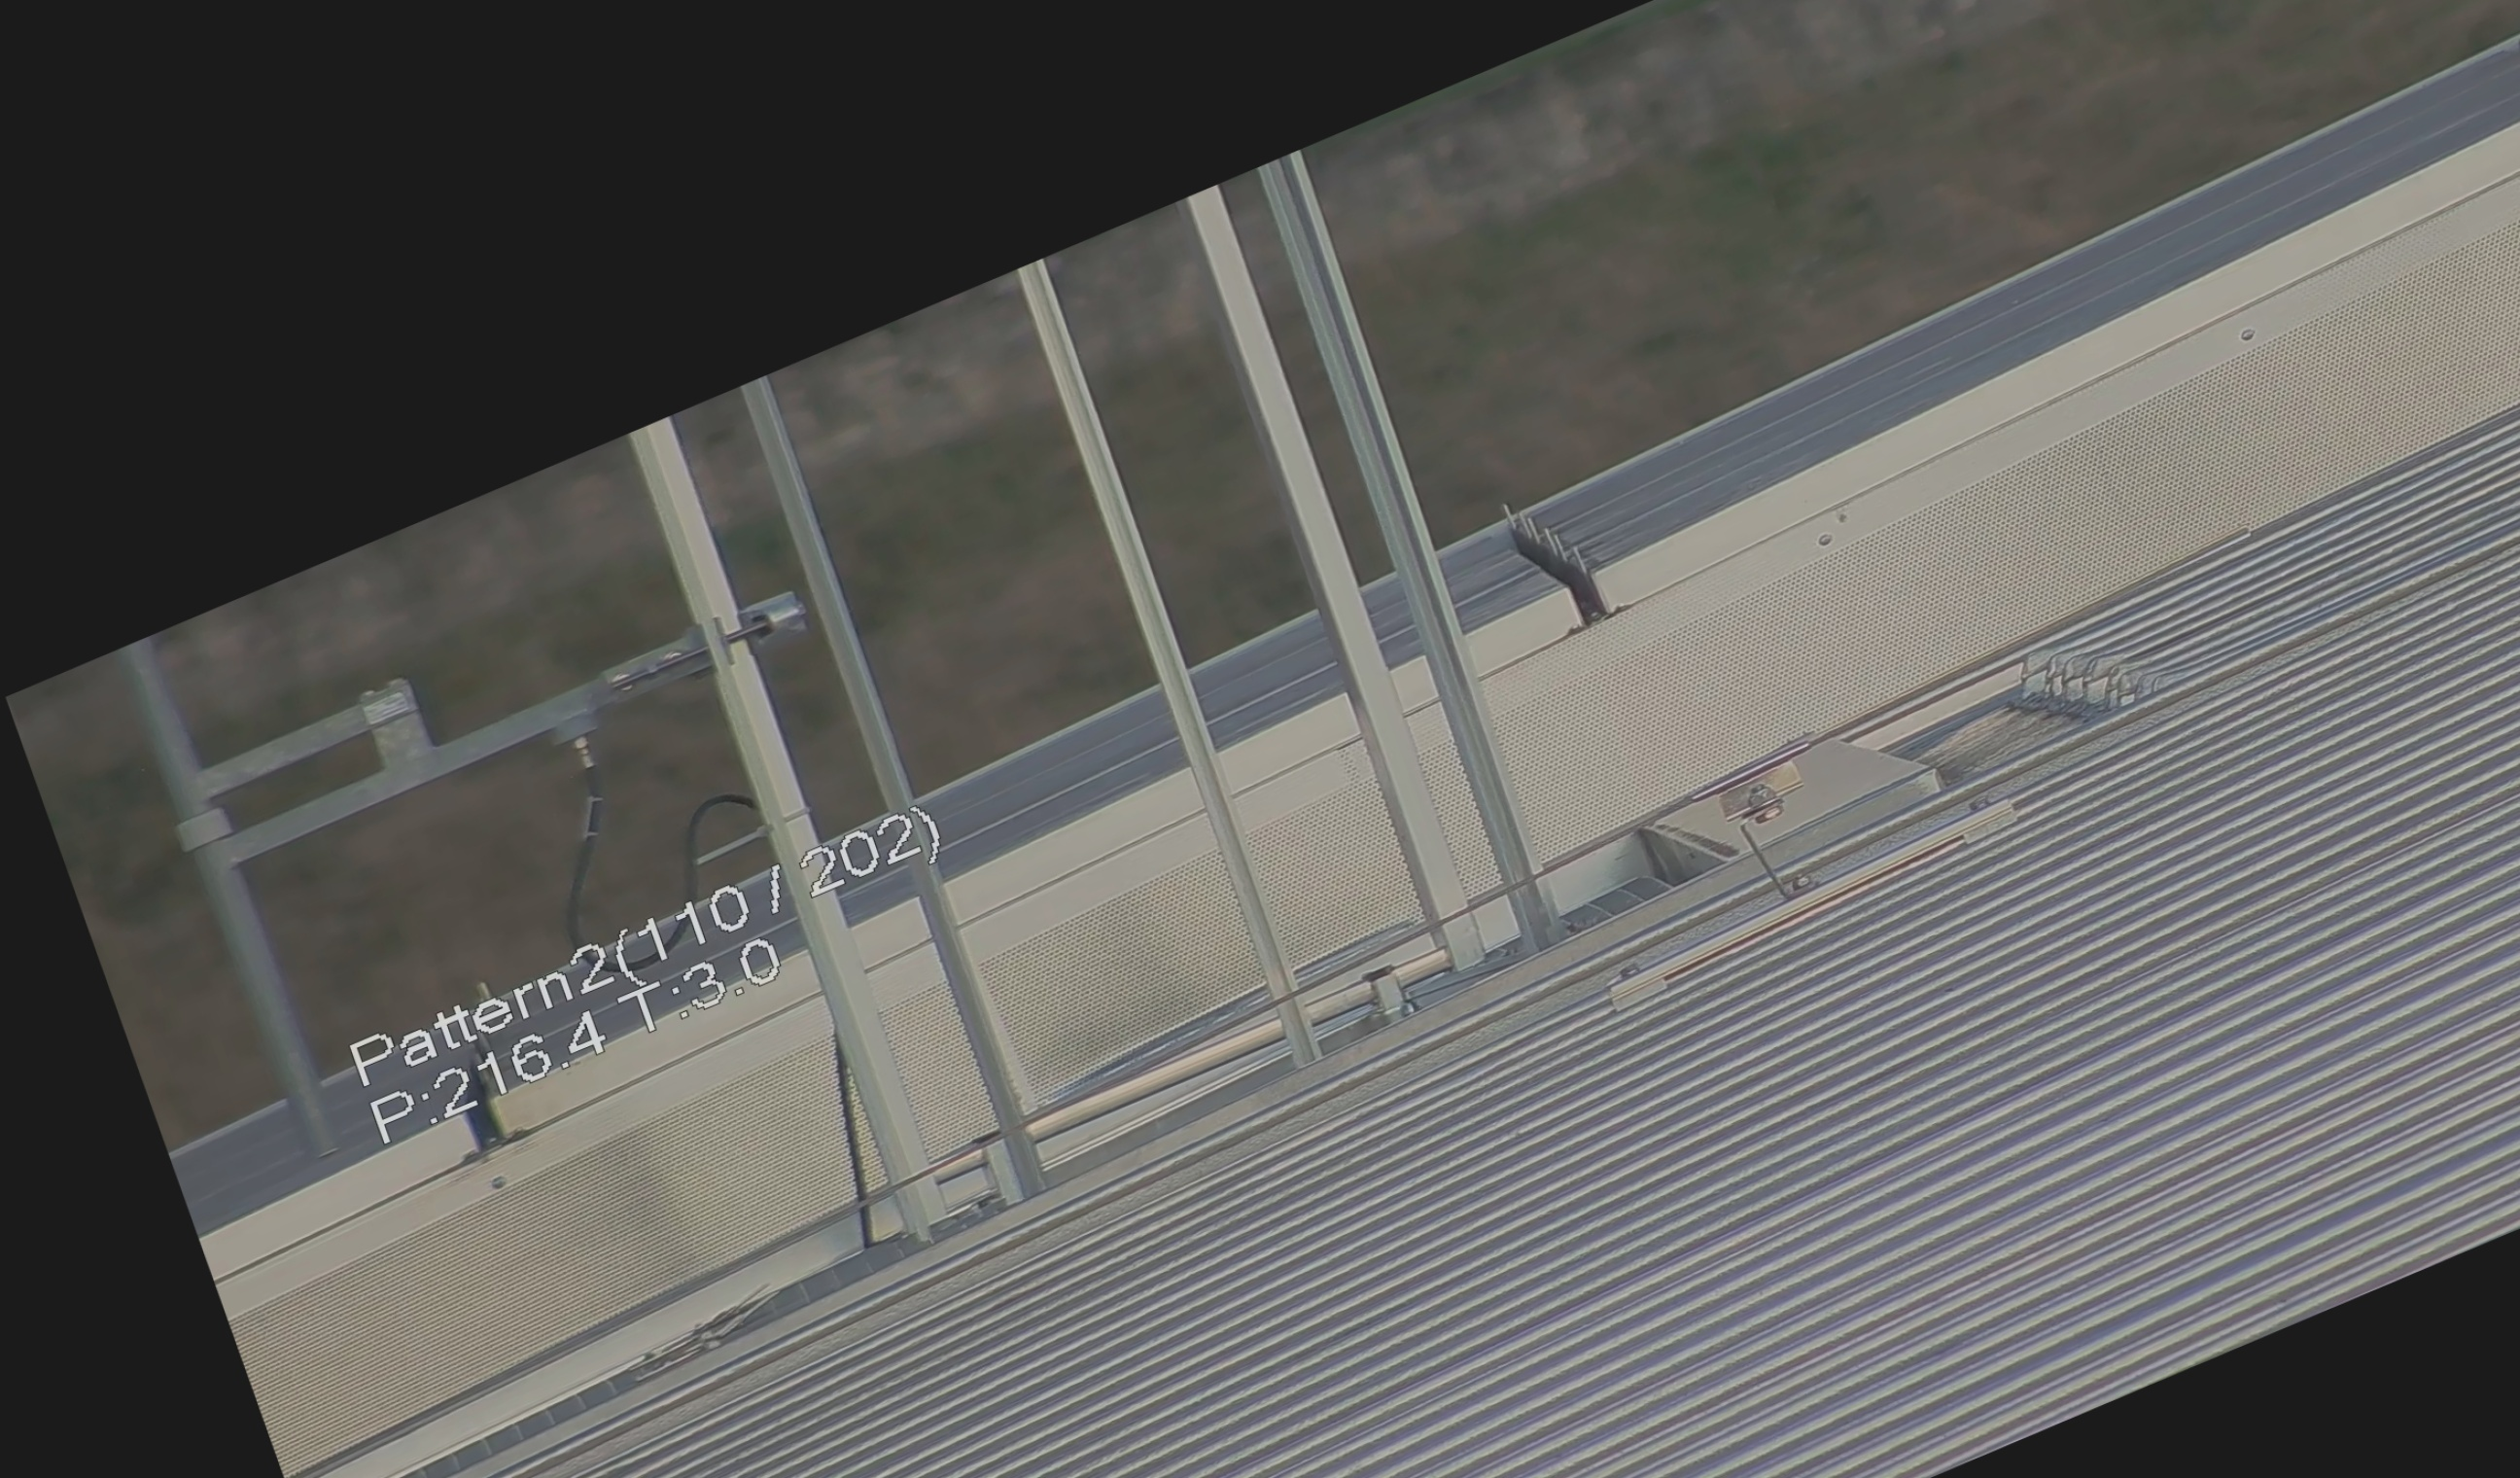Other: (1454, 449, 1644, 672)
